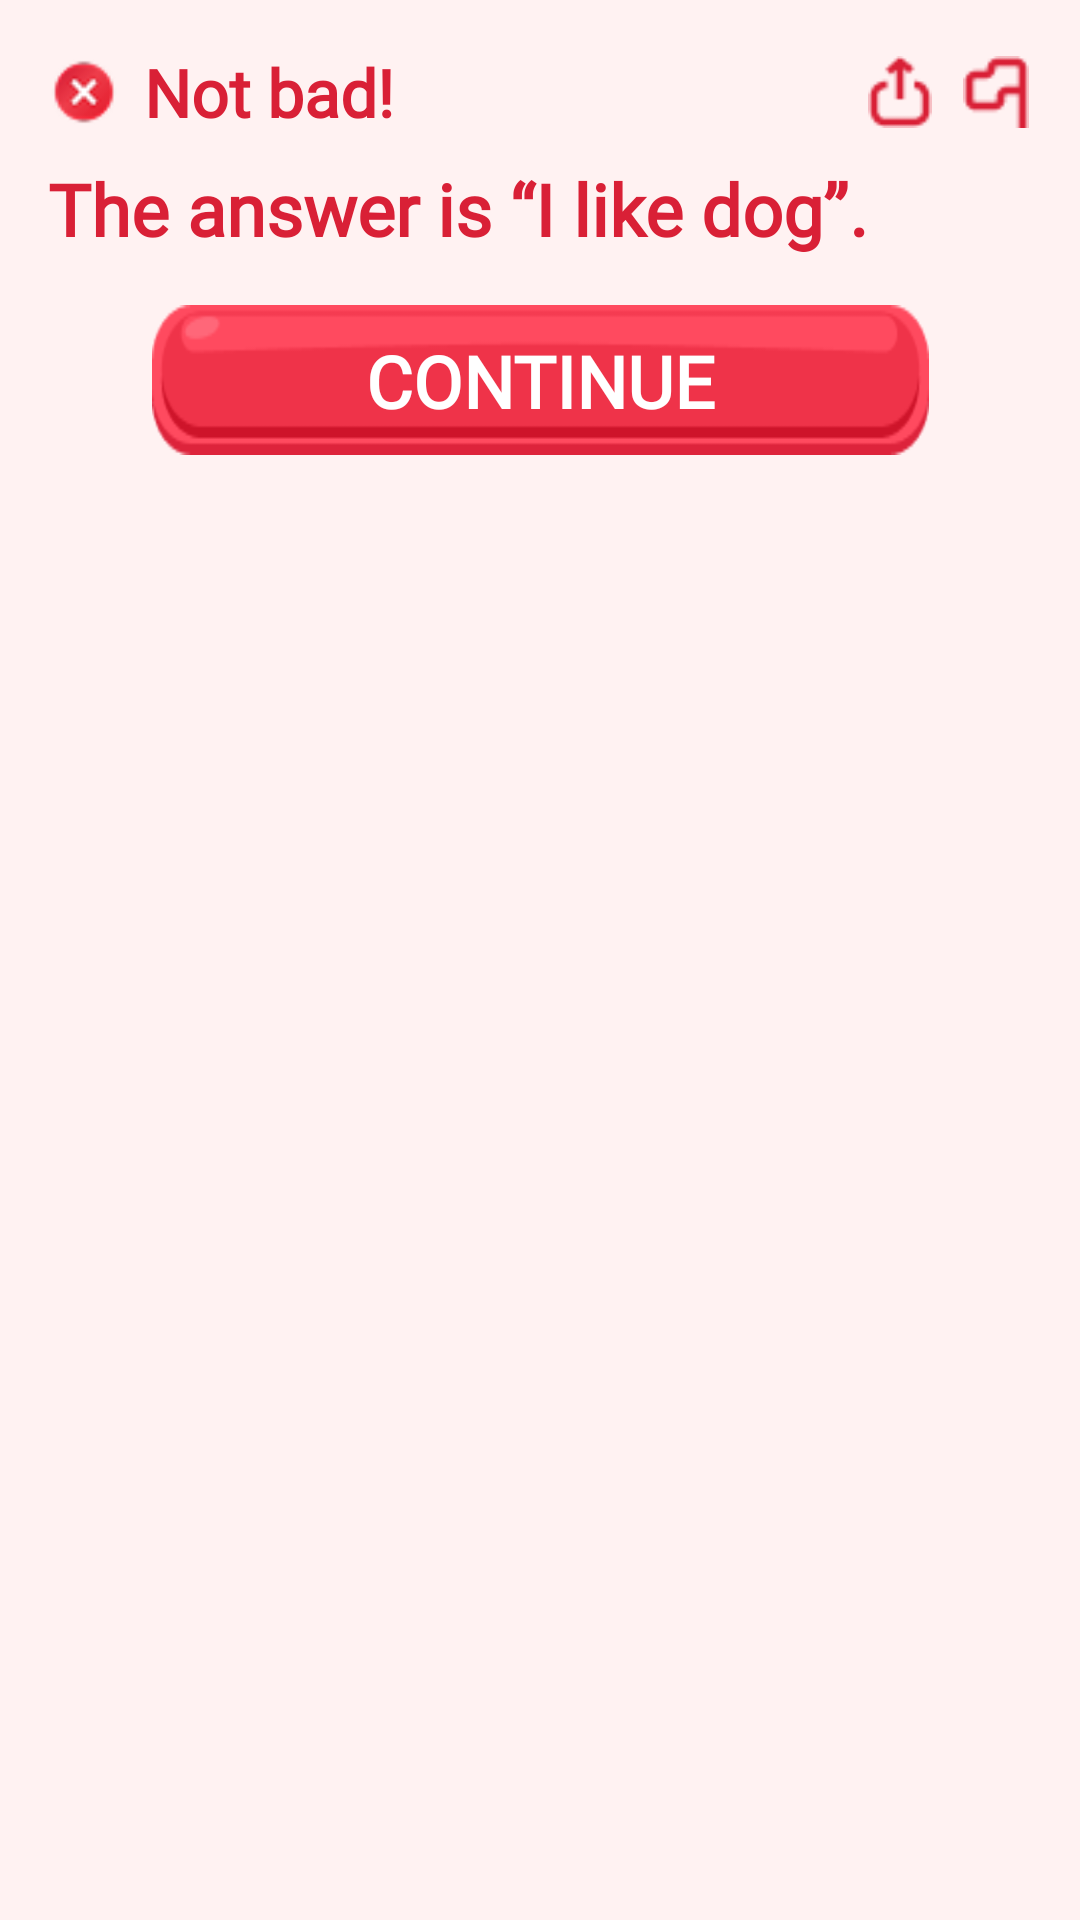

Named icons in this screenshot (1080*1920) and their centers, point (x, y):
share: point (900, 92)
wrong: point (84, 92)
